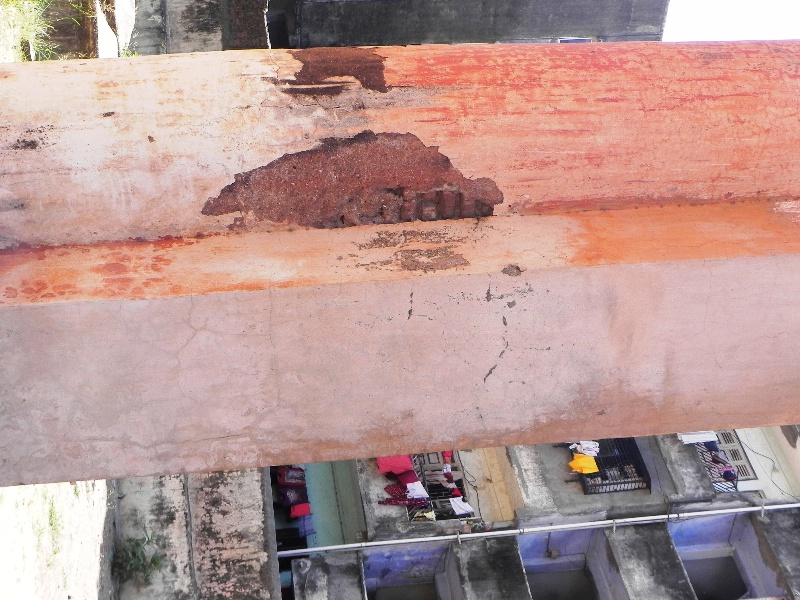Exposed Bricks: (384, 183, 494, 221)
Spalling: (199, 126, 514, 233), (263, 49, 405, 110)
